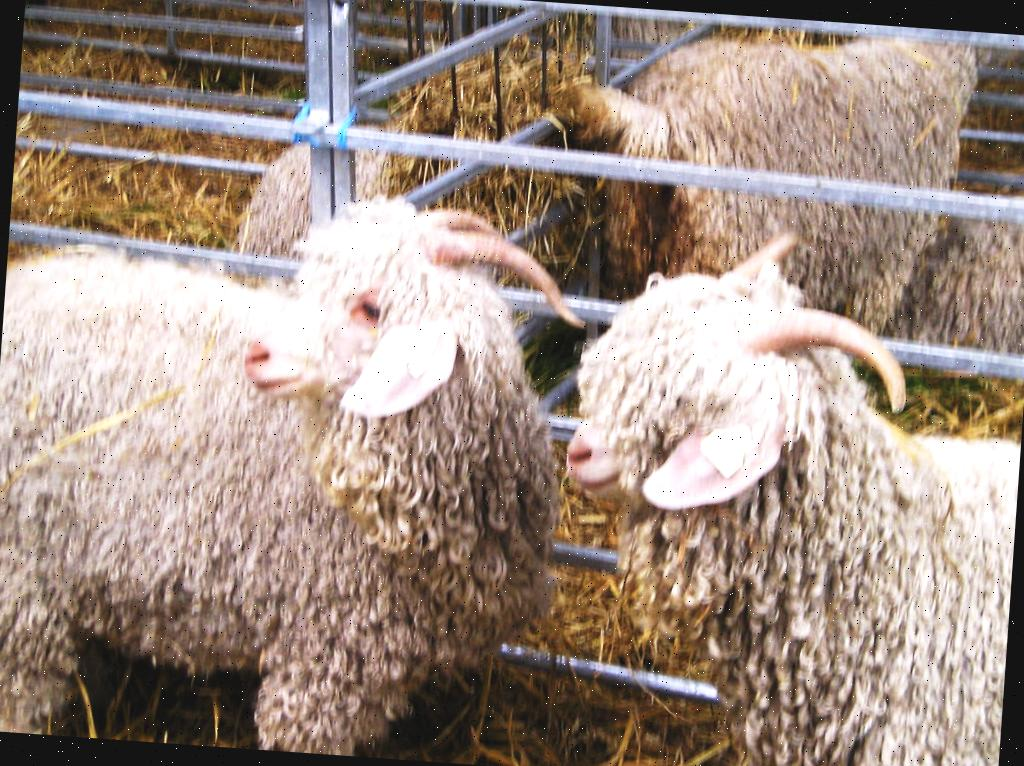Sheep: (0, 167, 594, 766), (538, 213, 1024, 766), (552, 14, 983, 340)
